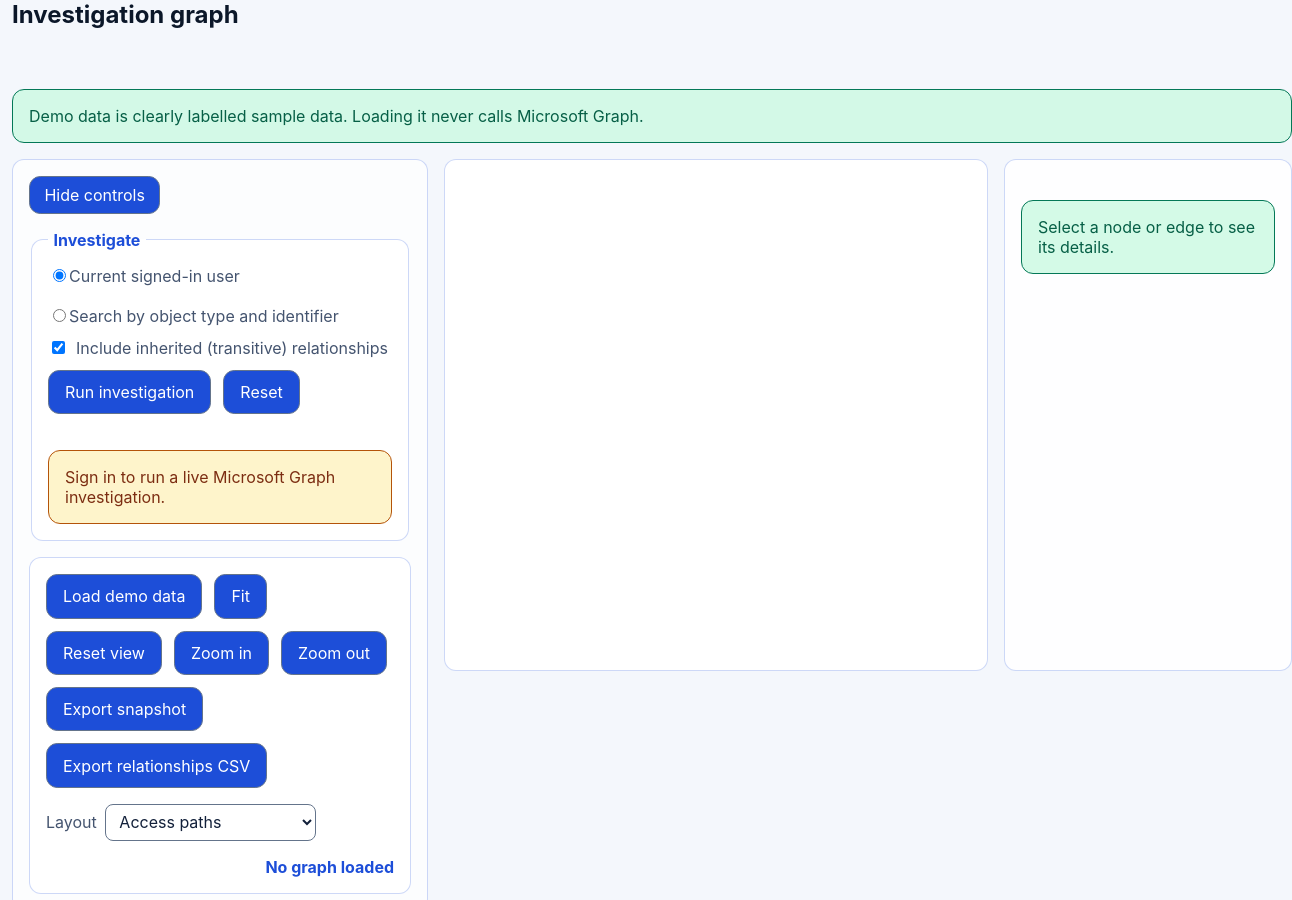
Test: GraphExplorer › loads the demo graph and reports node/edge counts
Click the button "Load demo data": click(124, 596) top-left (46, 574), bottom-right (202, 619)
(page scrolled)
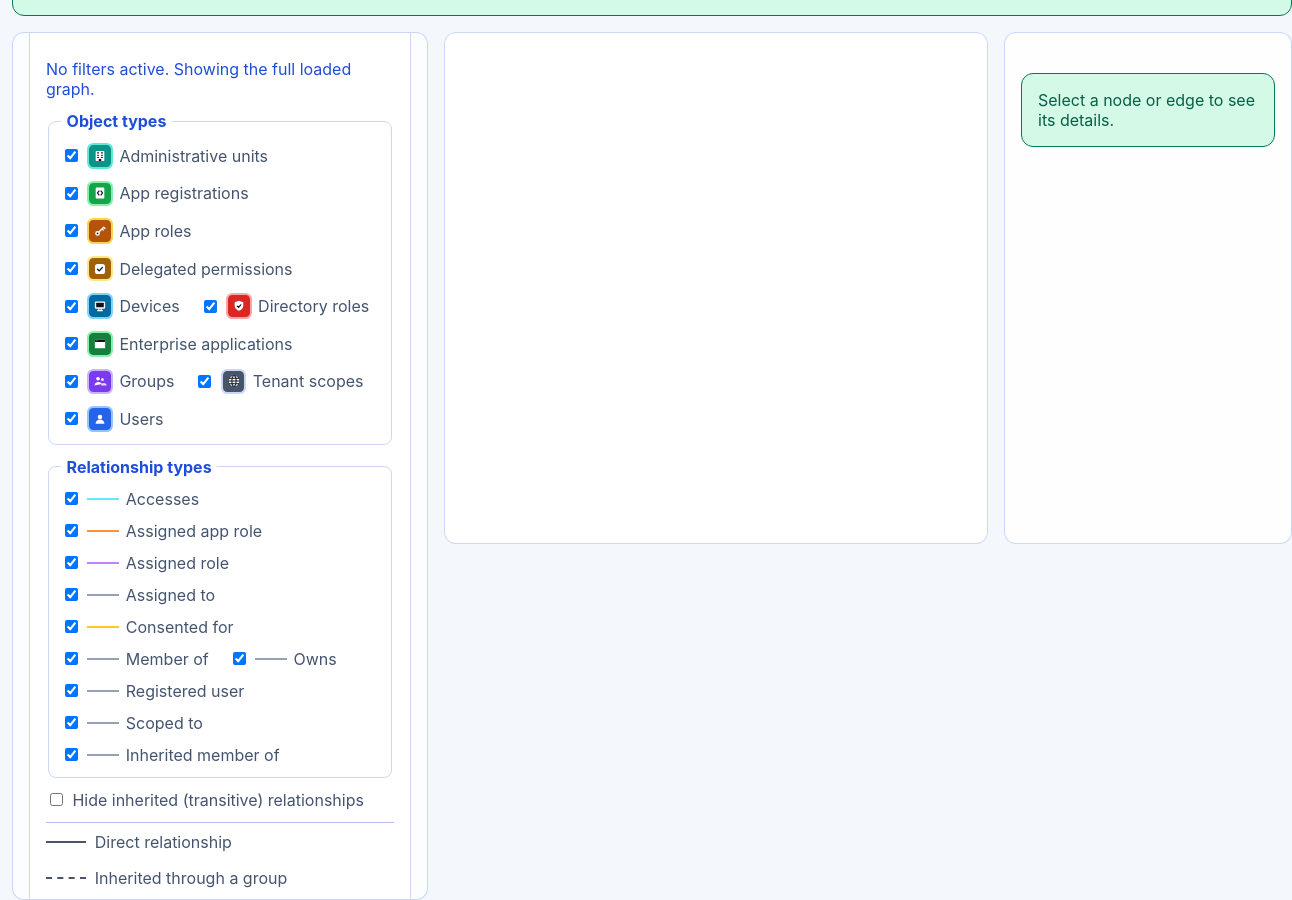
Expected: the element "Filters & key" is shown, top-left (29, 32), bottom-right (411, 899)
